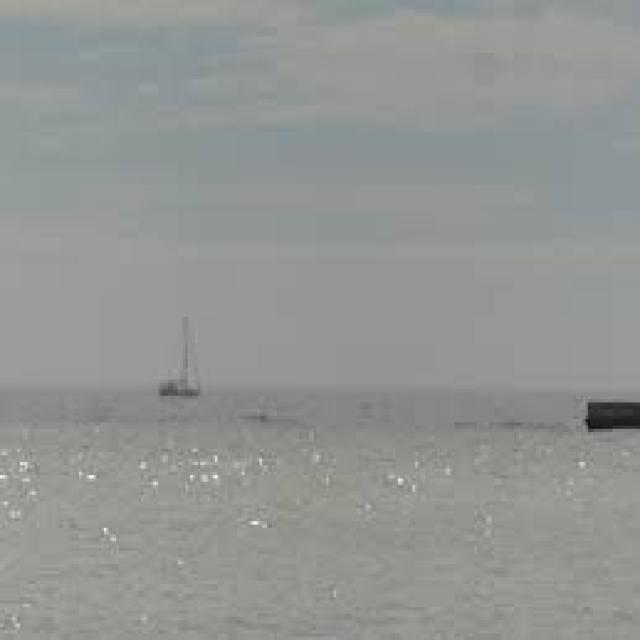fishing boat: (157, 303, 208, 403)
